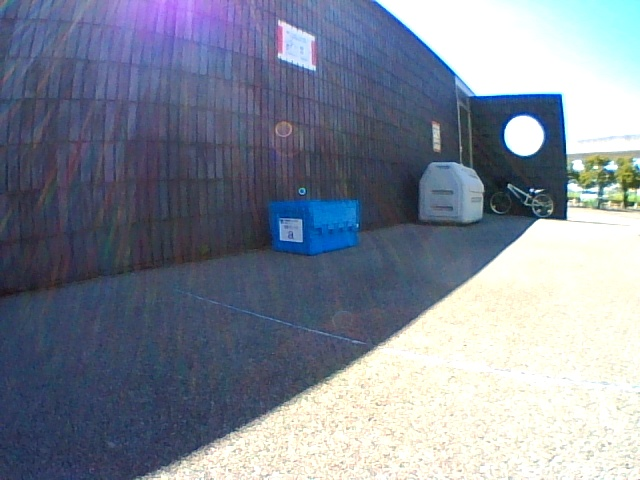blue_box: (269, 201, 359, 255)
tag_a: (281, 219, 302, 241)
